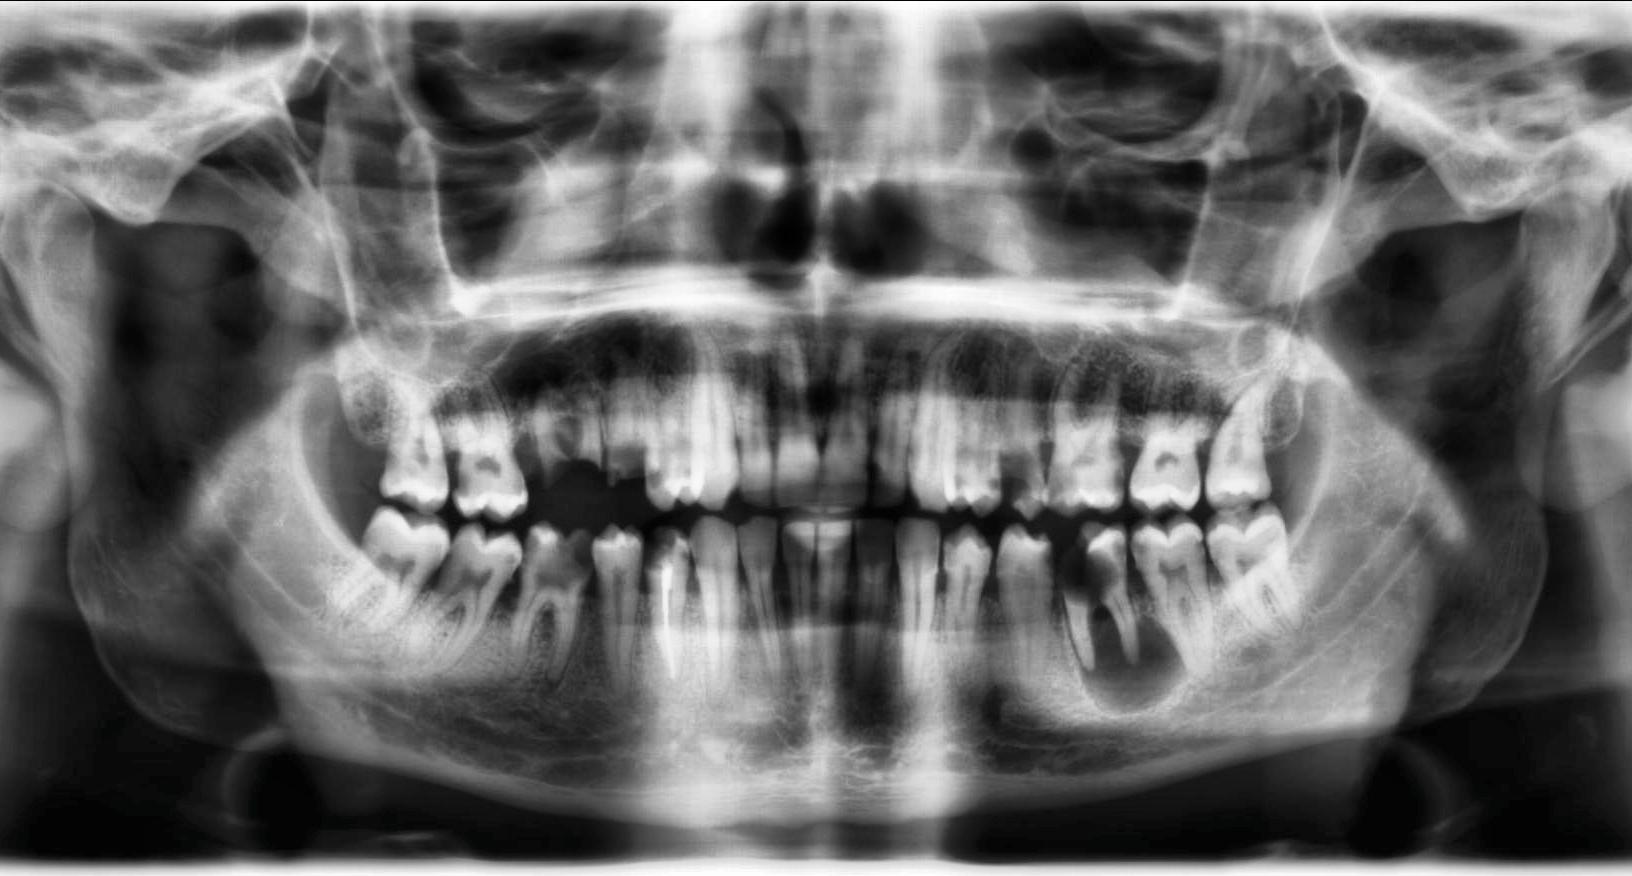radikuler: (1076, 614, 1189, 717)
